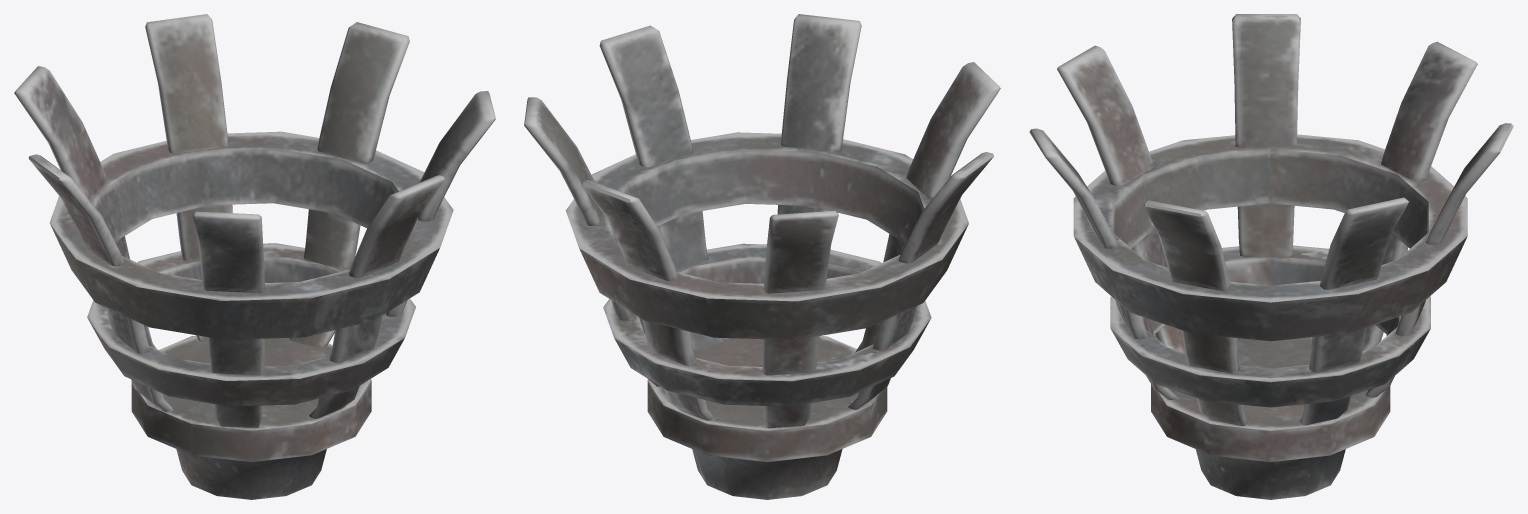
The model's file is SM_ground_torch.fbx.
3 views of the same model, side by side, from view 1: azimuth 30°, elevation 25°; view 2: azimuth 150°, elevation 25°; view 3: azimuth 270°, elevation 25° (orthographic).
Parts seen in each view (by area): view 1: SM_ground_torch_LOD0; view 2: SM_ground_torch_LOD0; view 3: SM_ground_torch_LOD0.
Part boxes in pixels (bbox=[...]): SM_ground_torch_LOD0: bbox=[14, 14, 495, 499]; SM_ground_torch_LOD0: bbox=[524, 14, 1000, 499]; SM_ground_torch_LOD0: bbox=[1029, 14, 1513, 499].
Bounding box in the file's own units: 45.56 × 46.44 × 37.55.
